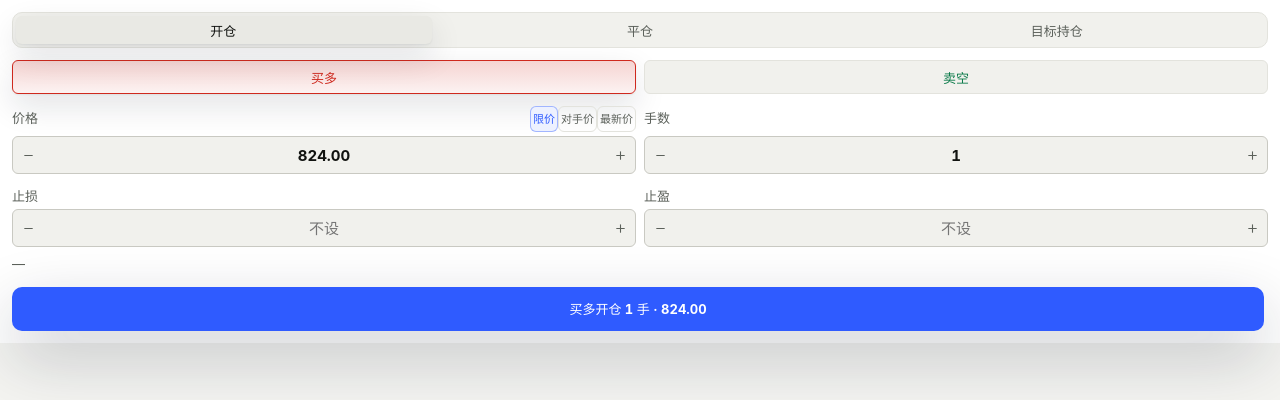
Test case: TradeTicket 手数 / 委托价 / 目标持仓的输入校验（#789） › 确认文字跟随方向、手数和价格类型
This screenshot has width=1280, height=400.
Check: the button "买多开仓 1 手 · 824.00" is shown, box [12, 286, 1264, 330]
Click the button "卖空".
click(956, 77)  # box [644, 60, 1268, 94]
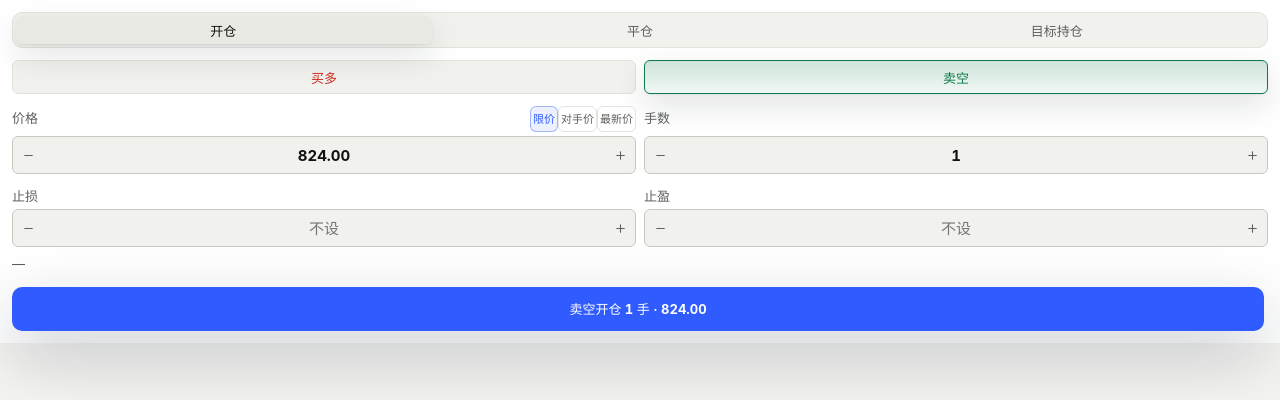
Replace the text in the number field named "模拟委托手数" with "2" at coordinates (956, 155), box [675, 144, 1237, 166]
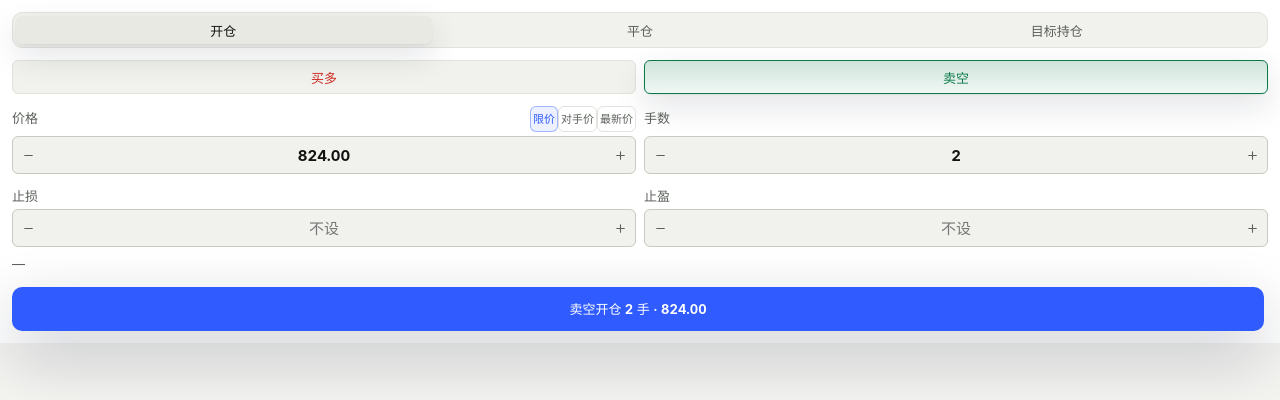
Click the button "对手价".
click(578, 119)  # box [558, 106, 597, 132]
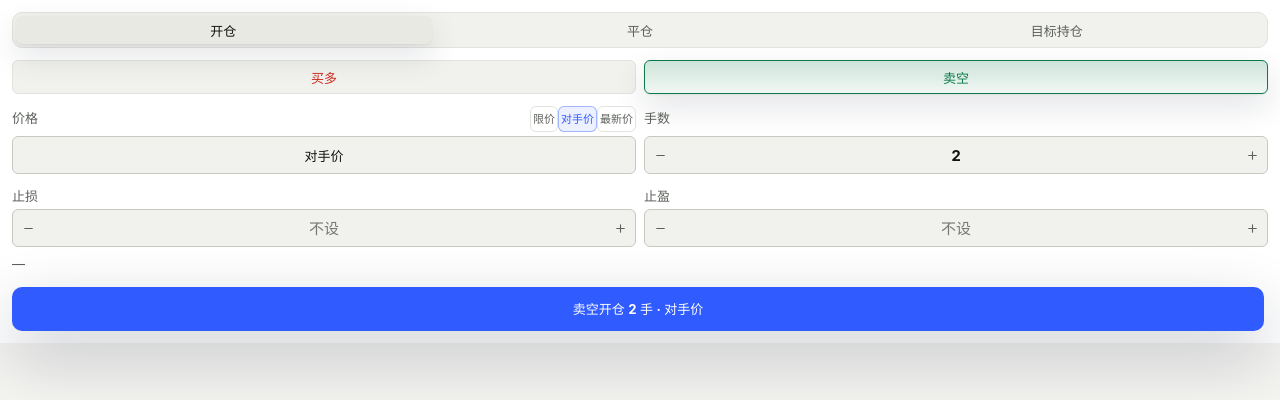
Check: the button "卖空开仓 2 手 · 对手价" is shown, box [12, 286, 1264, 330]
Click the button "最新价".
click(616, 119)  # box [597, 106, 636, 132]
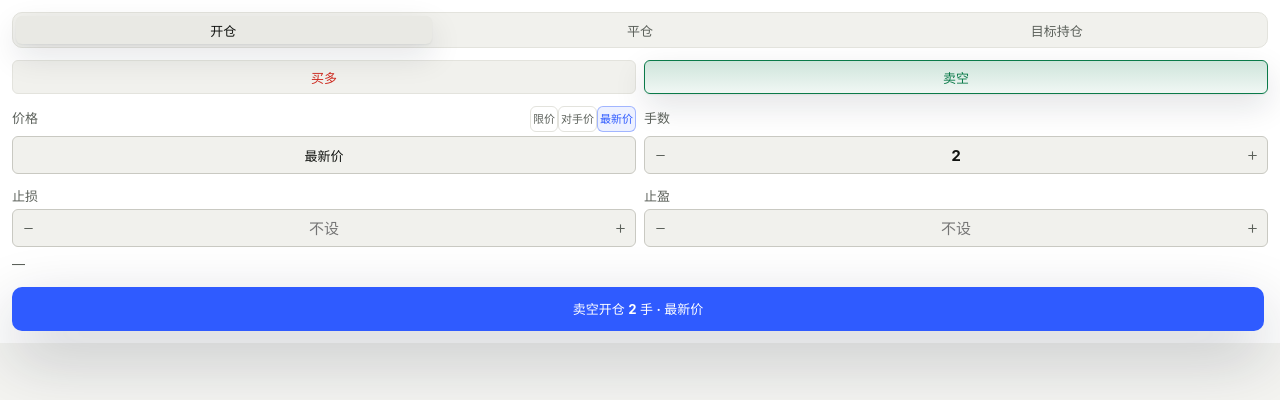
Check: the button "卖空开仓 2 手 · 最新价" is shown, box [12, 286, 1264, 330]
